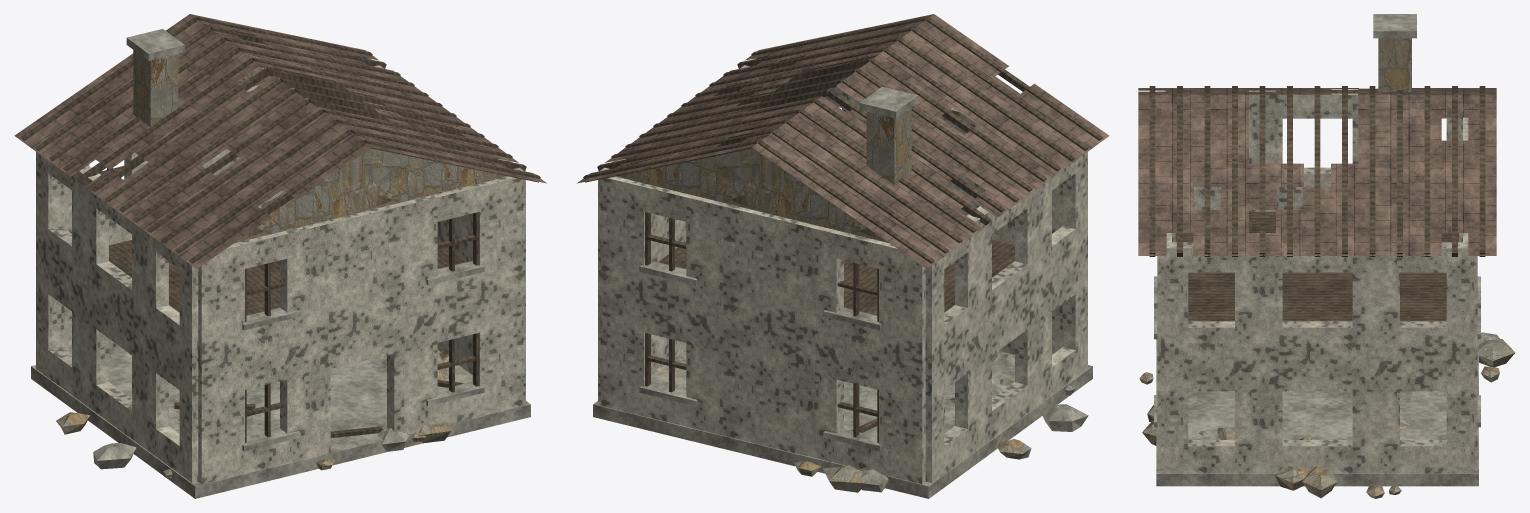
Rendered from House_1.fbx.
The picture shows the model from 3 angles, left to right: view 1: azimuth 30°, elevation 25°; view 2: azimuth 150°, elevation 25°; view 3: azimuth 270°, elevation 25°; orthographic projection.
Visible parts, largest first — view 1: House_1; view 2: House_1; view 3: House_1.
Boxes of the visible parts, left/top/right/bottom form: House_1: left=14, top=14, right=546, bottom=498; House_1: left=577, top=14, right=1109, bottom=498; House_1: left=1138, top=14, right=1515, bottom=498.
Bounding box in the file's own units: 989 × 780 × 777.
